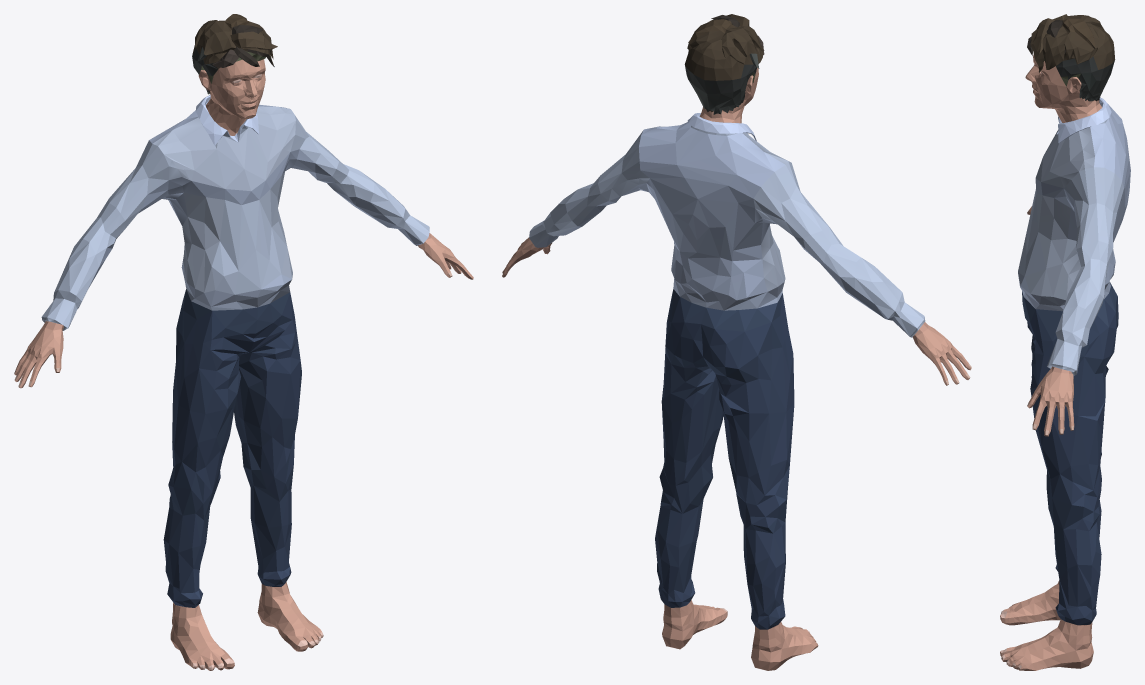
The model's file is matt-rigged.obj.
3 renders of one model, left to right at view 1: azimuth 30°, elevation 25°; view 2: azimuth 150°, elevation 25°; view 3: azimuth 270°, elevation 25°, orthographic. The views are drawn at different scales.
Parts seen in each view (by area): view 1: body-home, head, hand-male-slim; view 2: body-home, head, hand-male-slim; view 3: body-home, head, hand-male-slim.
Boxes of the visible parts, x1,y1,x2,y2 form: body-home: (41, 94, 429, 670); head: (192, 14, 277, 135); hand-male-slim: (14, 233, 473, 388); body-home: (529, 113, 925, 670); head: (684, 14, 764, 123); hand-male-slim: (502, 237, 971, 385); body-home: (1000, 97, 1130, 670); head: (1025, 14, 1115, 122); hand-male-slim: (1027, 206, 1074, 436).
Bounding box in the file's own units: 1.37 × 1.79 × 0.3401.
